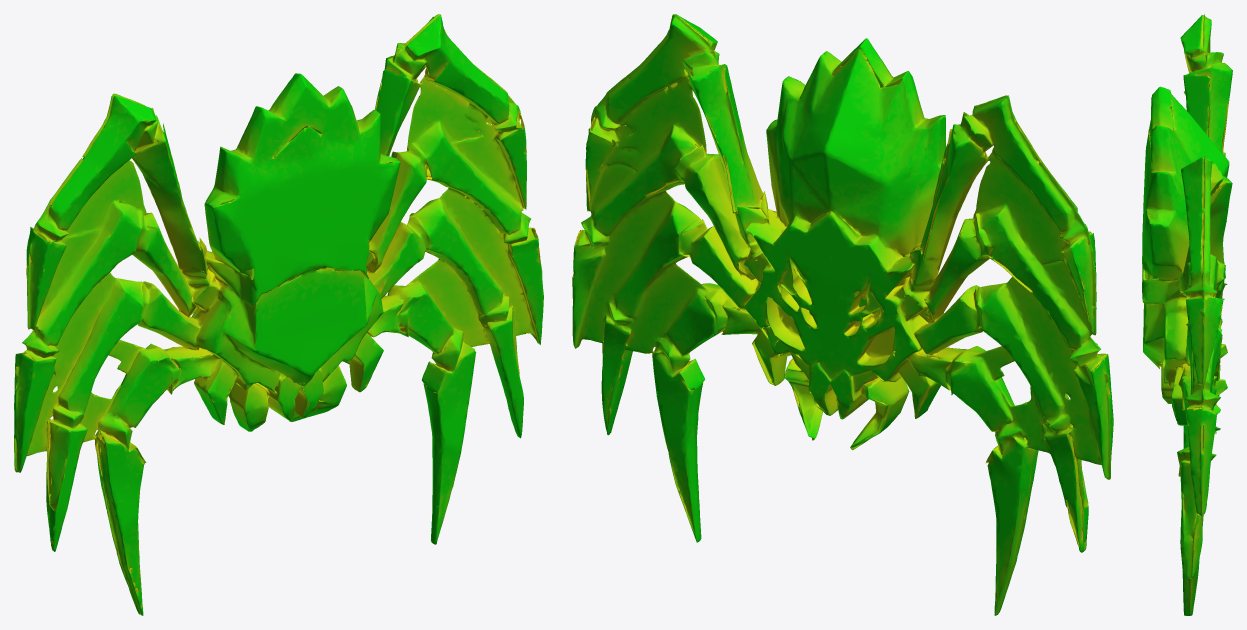
The model's file is tombspider_outline.fbx.
The picture shows the model from 3 angles, left to right: view 1: azimuth 30°, elevation 25°; view 2: azimuth 150°, elevation 25°; view 3: azimuth 270°, elevation 25°; orthographic projection. The views are drawn at different scales.
Parts seen in each view (by area): view 1: tombspider_outline; view 2: tombspider_outline; view 3: tombspider_outline.
Boxes of the visible parts, left/top/right/bottom form: tombspider_outline: left=14, top=14, right=543, bottom=615; tombspider_outline: left=572, top=14, right=1113, bottom=615; tombspider_outline: left=1142, top=14, right=1232, bottom=615.
Size of the model in its own units: 191 by 180 by 31.79.
